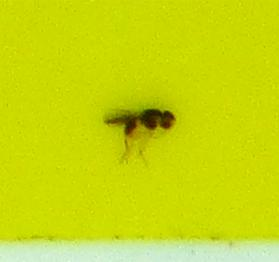Brachycera: (100, 100, 179, 162)
